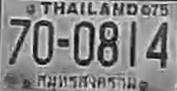0: (73, 20, 94, 65), (32, 19, 53, 64)
1: (128, 20, 136, 66)
4: (146, 21, 168, 66)
7: (9, 18, 30, 63)
8: (97, 20, 117, 66)
SKM: (34, 72, 138, 91)
